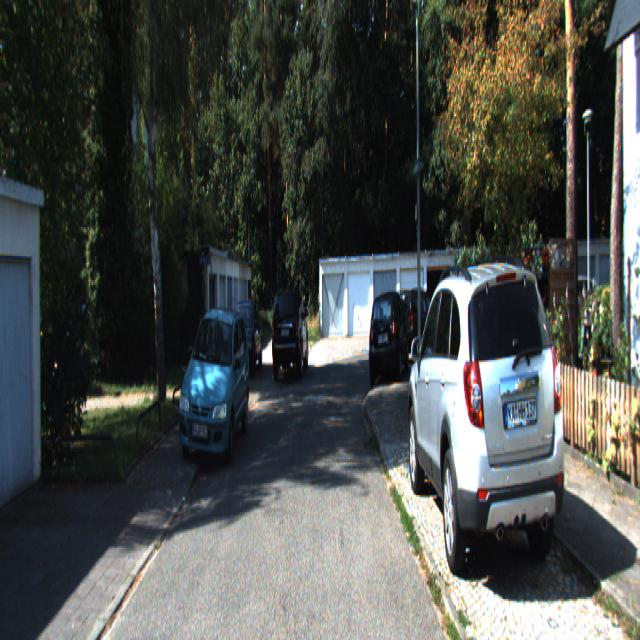Car: (405, 252, 573, 602), (178, 303, 250, 463), (393, 285, 447, 364), (369, 288, 408, 384), (270, 282, 308, 372), (228, 297, 264, 374)
